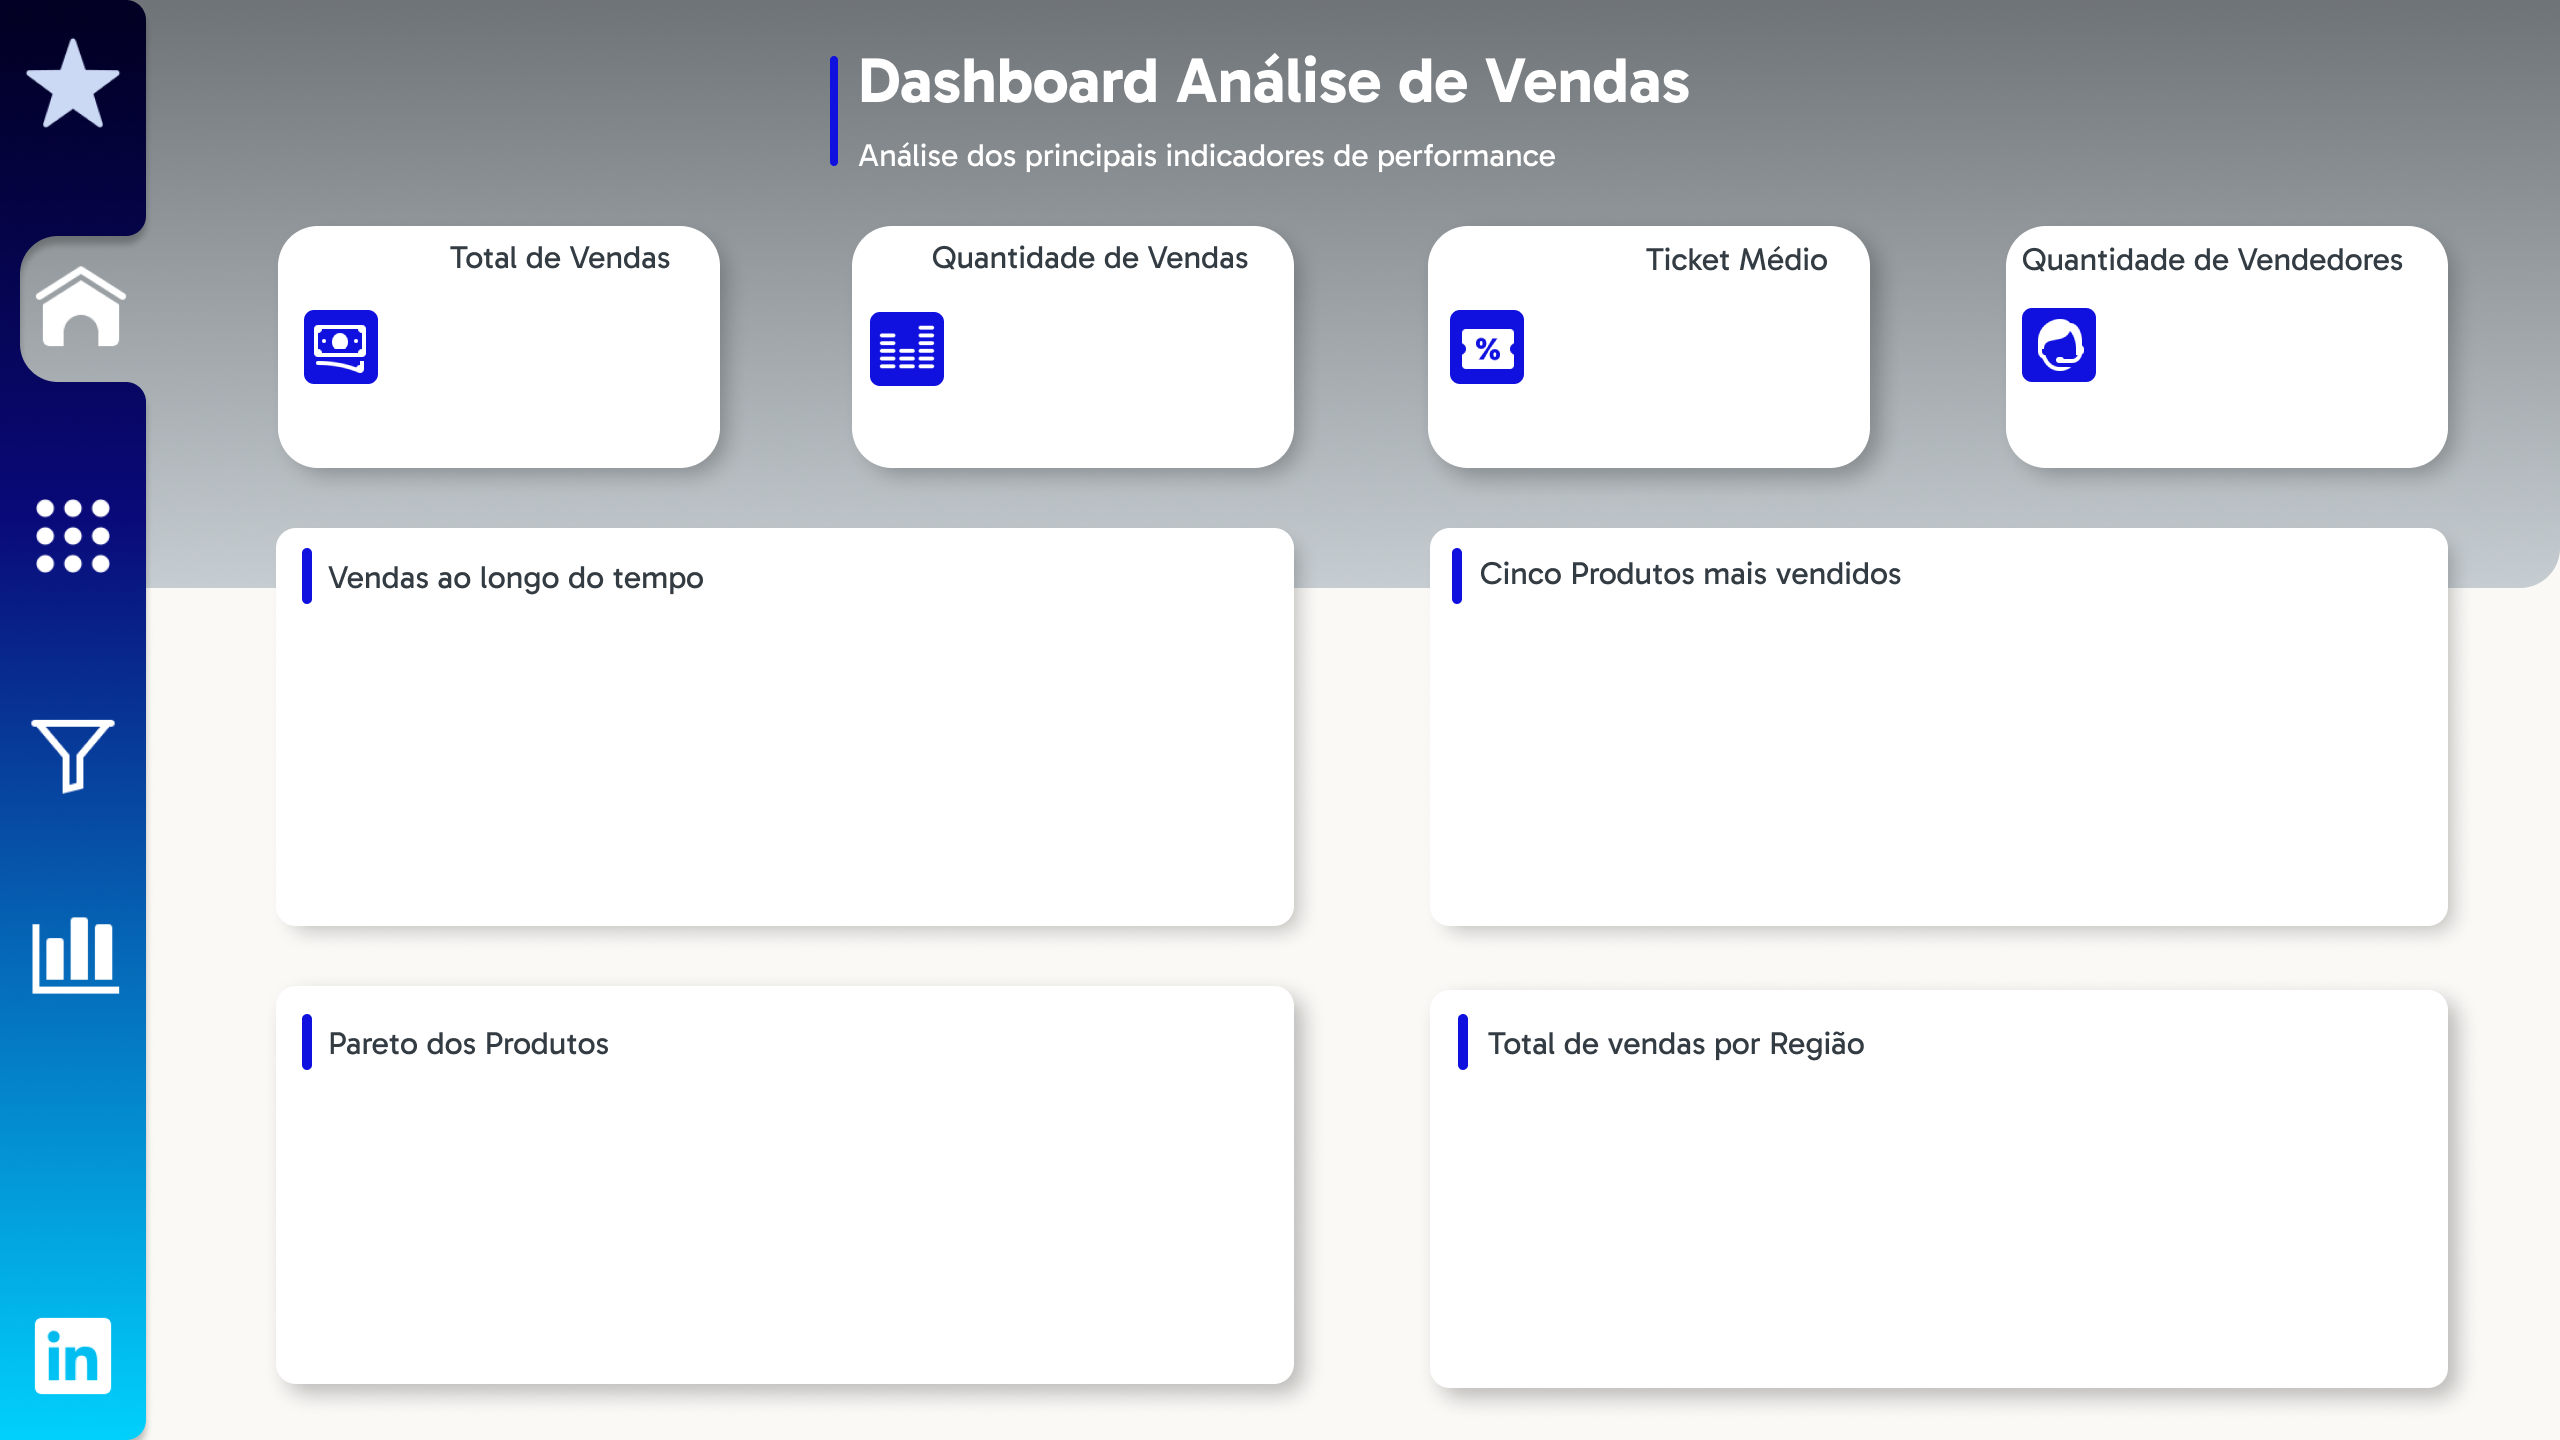

The page's visual inventory and layout, read from the dashboard file:
{"tool":"powerbi","page":{"name":"Página 4","canvas":[1280,720],"ordinal":3},"visuals":[{"type":"cardVisual","fields":{"Data":["Tabela2.Total Vendas"]},"box":[198.2,142.5,147.3,64.2],"z":0},{"type":"cardVisual","fields":{"Data":["Tabela2.Qtd Vendas"]},"box":[500.3,145.4,121.8,61.4],"z":1000},{"type":"cardVisual","fields":{"Data":["Tabela2.Ticket Médio"]},"box":[772.2,136.9,151,75.5],"z":2000},{"type":"lineChart","title":"Vendas ao longo do tempo","fields":{"Y":["Tabela2.Total Vendas"],"Category":["Calendario.Date.Variation.Hierarquia de datas.Ano","Calendario.Date.Variation.Hierarquia de datas.Trimestre","Calendario.Date.Variation.Hierarquia de datas.Mês","Calendario.Date.Variation.Hierarquia de datas.Dia"]},"box":[159.5,273.7,462.5,180.3],"z":3000},{"type":"columnChart","title":"top 5 produtos por faturamento ","fields":{"Category":["Tabela2.produto"],"Y":["Tabela2.Total Vendas"]},"box":[736.3,304,471,150.1],"z":4000},{"type":"tableEx","title":"Pareto","fields":{"Values":["Tabela2.produto","Tabela2.Total Vendas","Tabela2.% acumulada"]},"box":[159.5,529.6,472.9,152],"z":5000},{"type":"actionButton","box":[0,341.7,66.1,56.6],"z":9000},{"type":"donutChart","fields":{"Category":["Tabela2.regiao"],"Y":["Tabela2.Total Vendas"]},"box":[736.3,529.6,471,152],"z":10000},{"type":"cardVisual","fields":{"Data":["Tabela2.qtd vendedores"]},"box":[1083.7,142.5,78.3,64.2],"z":11001}]}

Visuals, with their boxes on the page's 1280x720 design canvas (x1, y1, x2, y2). These are canvas units, not pixel positions in the 2560x1440 screenshot, which may show the page scaled, cropped or inside an application window:
cardVisual - Tabela2.Total Vendas: 198,142,346,207
cardVisual - Tabela2.Qtd Vendas: 500,145,622,207
cardVisual - Tabela2.Ticket Médio: 772,137,923,212
"Vendas ao longo do tempo" lineChart: 160,274,622,454
"top 5 produtos por faturamento " columnChart: 736,304,1207,454
"Pareto" tableEx: 160,530,632,682
actionButton: 0,342,66,398
donutChart - Tabela2.regiao x Tabela2.Total Vendas: 736,530,1207,682
cardVisual - Tabela2.qtd vendedores: 1084,142,1162,207
